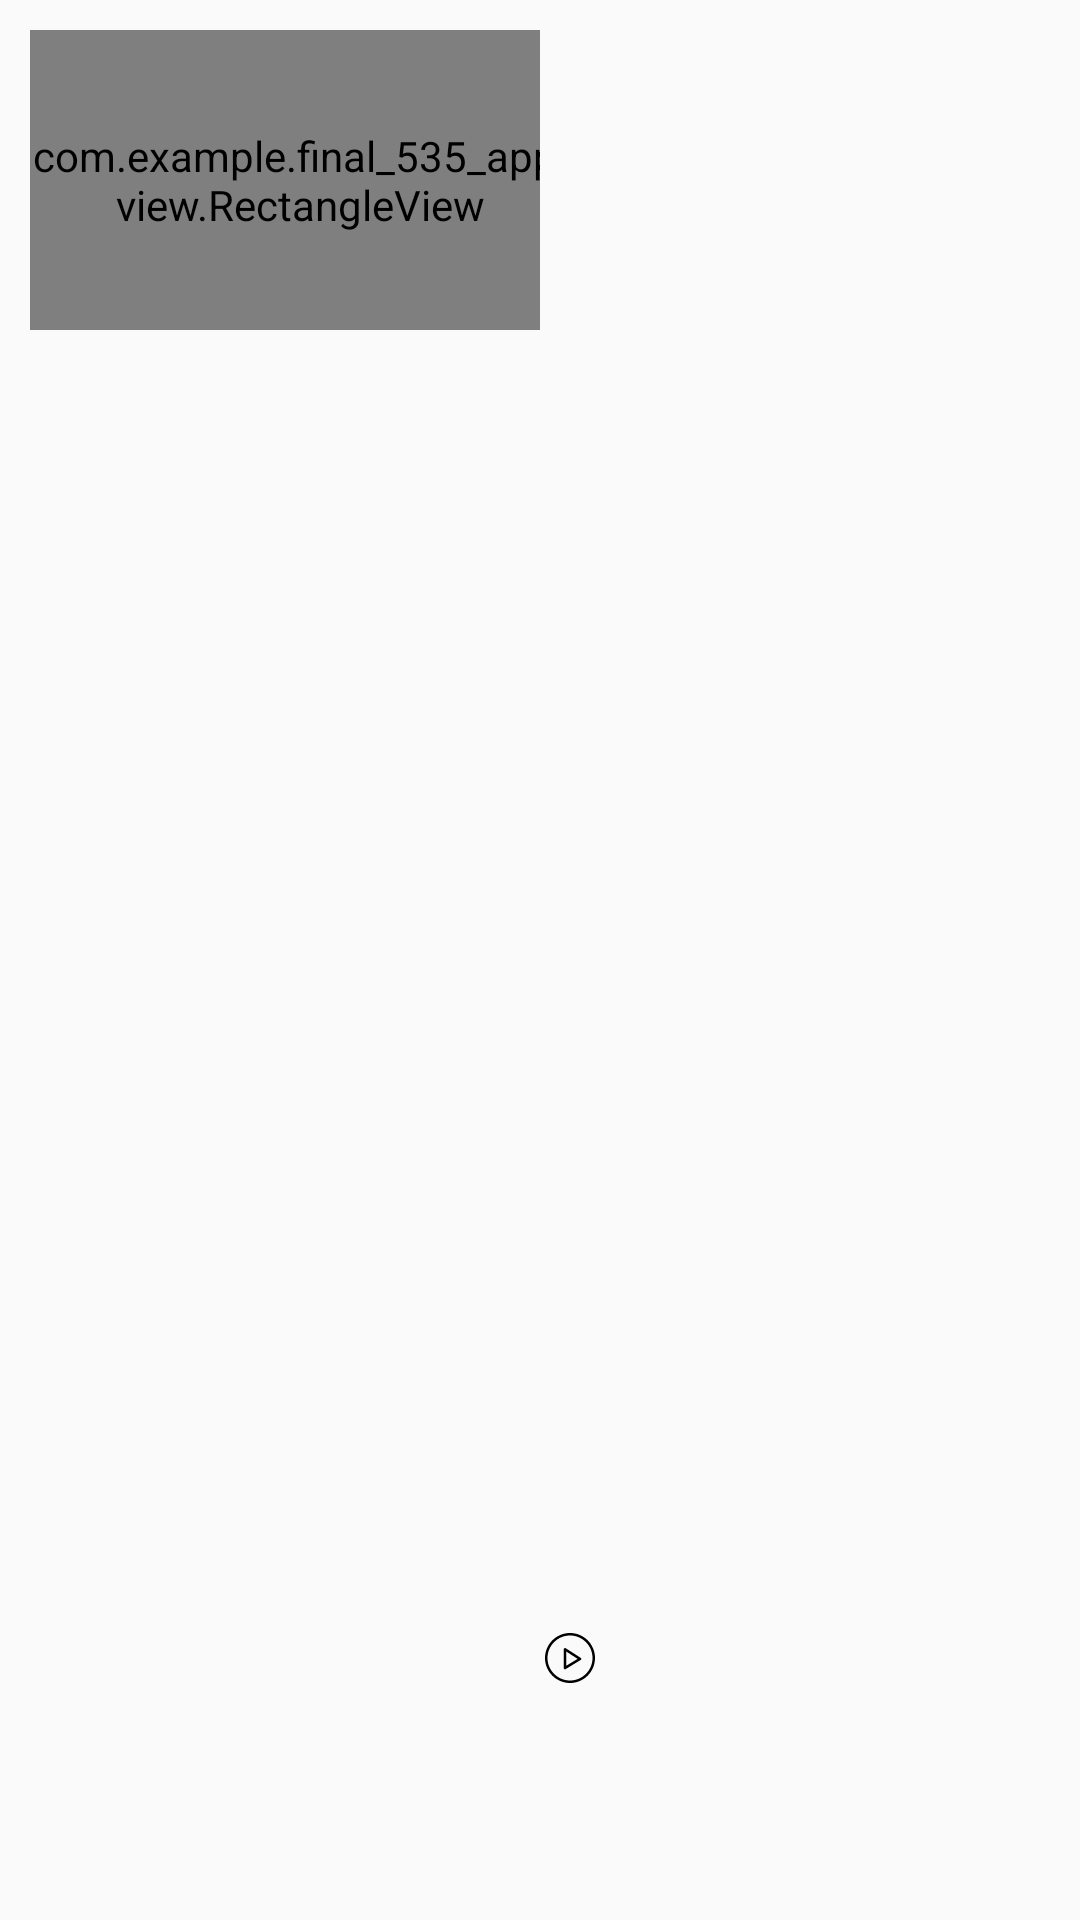

Icon bounding boxes for this 1080w x 1920h phone screenshot, format (x1, y1, x2, y2):
video: (545, 1633, 595, 1683)
